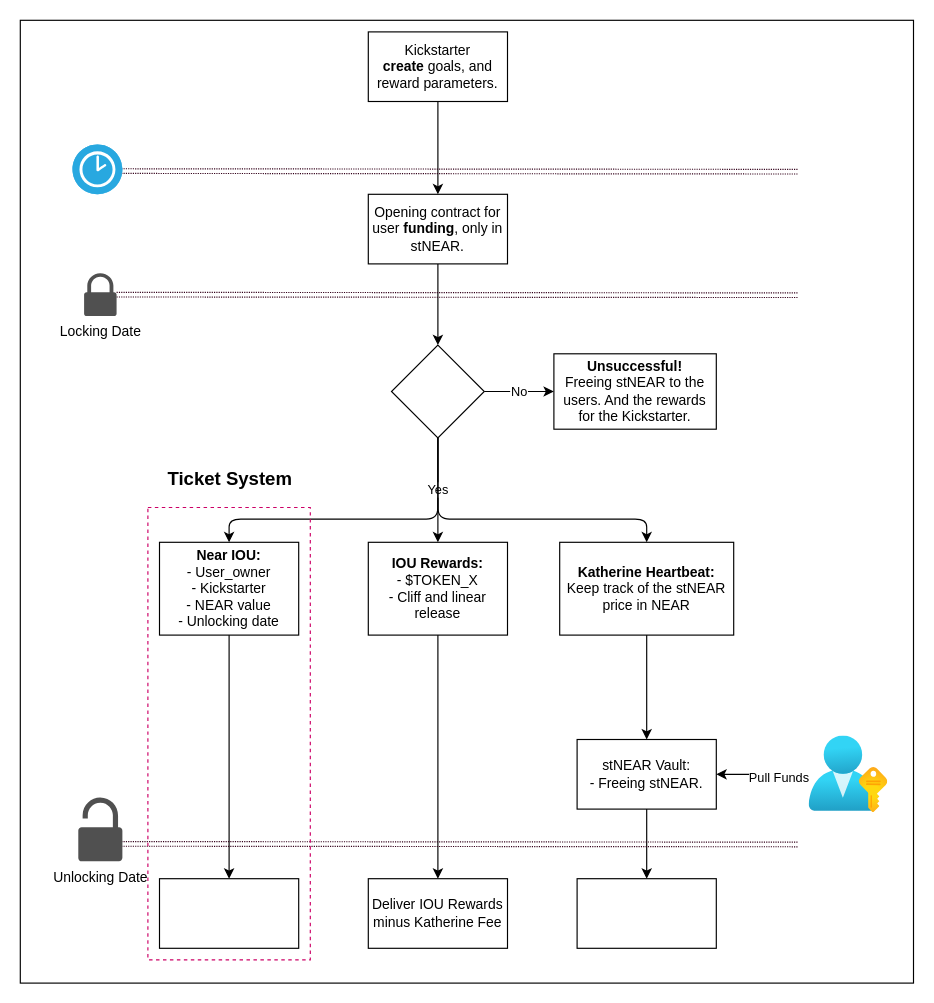
The diagram is 934 pixels wide and 1003 high, and some of its shapes have lost their labels. The shapes that lost their labels are listed below. From the top down, each one's box as (x1, y1, x2, y2) in pixels, then its label:
(71, 143, 122, 194): Funding period
(390, 344, 484, 438): Goal reached?
(809, 735, 887, 812): Kickstarter
(158, 878, 299, 948): Pay IOU Options: - get stNEAR - Liquid-Unstake - Delayed-Unstake
(576, 878, 716, 948): Remaining stNear must cover ALL responsibilities IOU.
